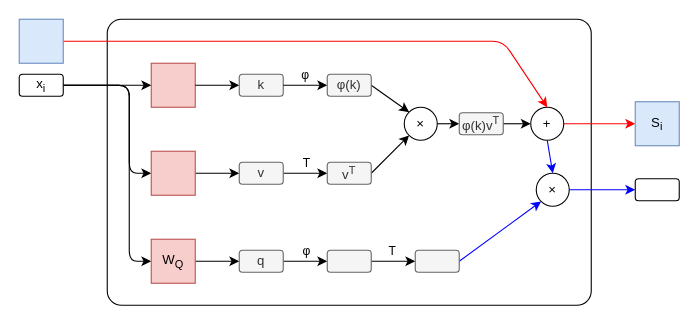
Image size: 699x325. Some labels were removed from this diagram. The shapes that lost their labels are listed below. From the top down, each one's box as (x1, y1, x2, y2) in pixels, then its label:
(18, 18, 63, 63): S i-1
(150, 62, 195, 107): W K
(150, 150, 195, 195): W V
(634, 178, 679, 201): y i
(326, 249, 371, 272): φ(q)
(414, 249, 459, 272): φ(q) T
